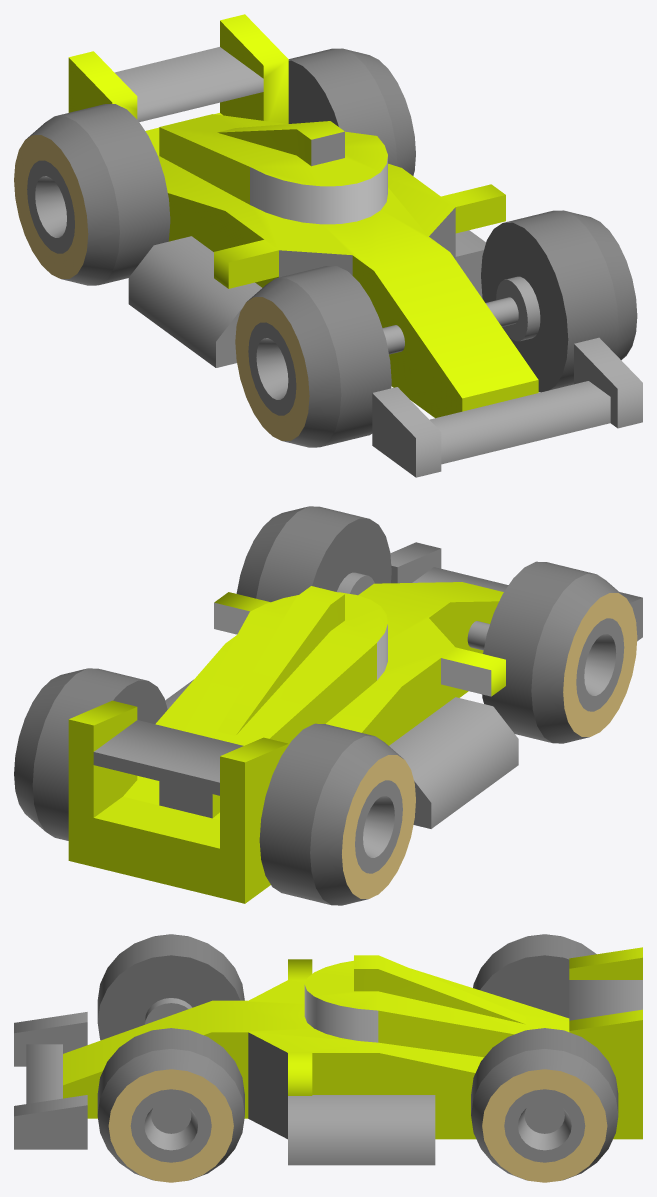
The model's file is yellowRaceCar.gltf.
3 views of the same model, one above another, from view 1: azimuth 30°, elevation 25°; view 2: azimuth 150°, elevation 25°; view 3: azimuth 270°, elevation 25° (orthographic). The views are drawn at different scales.
Parts seen in each view (by area): view 1: body, wheel_frontRight, wheel_backRight, wheel_frontLeft, wheel_backLeft; view 2: body, wheel_backRight, wheel_frontRight, wheel_backLeft, wheel_frontLeft; view 3: body, wheel_backLeft, wheel_frontLeft, wheel_frontRight, wheel_backRight.
Boxes of the visible parts, <box> form: body: <box>68,14,642,477</box>; wheel_frontRight: <box>235,266,391,447</box>; wheel_backRight: <box>14,104,170,285</box>; wheel_frontLeft: <box>481,210,637,392</box>; wheel_backLeft: <box>288,48,415,175</box>; body: <box>68,542,642,903</box>; wheel_backRight: <box>259,723,415,905</box>; wheel_frontRight: <box>482,561,637,743</box>; wheel_backLeft: <box>14,668,167,840</box>; wheel_frontLeft: <box>236,506,391,602</box>; body: <box>14,947,642,1165</box>; wheel_backLeft: <box>471,1028,618,1182</box>; wheel_frontLeft: <box>97,1028,244,1182</box>; wheel_frontRight: <box>97,934,244,1040</box>; wheel_backRight: <box>473,934,596,1018</box>.
Size of the model in its own units: 1.3 by 0.7325 by 2.56.
